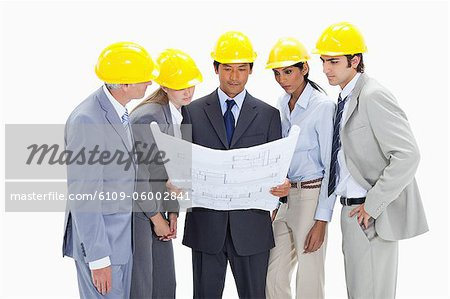Person_wearing_helmet: (93, 37, 154, 83), (317, 19, 366, 66), (210, 25, 253, 72), (270, 35, 305, 76)
